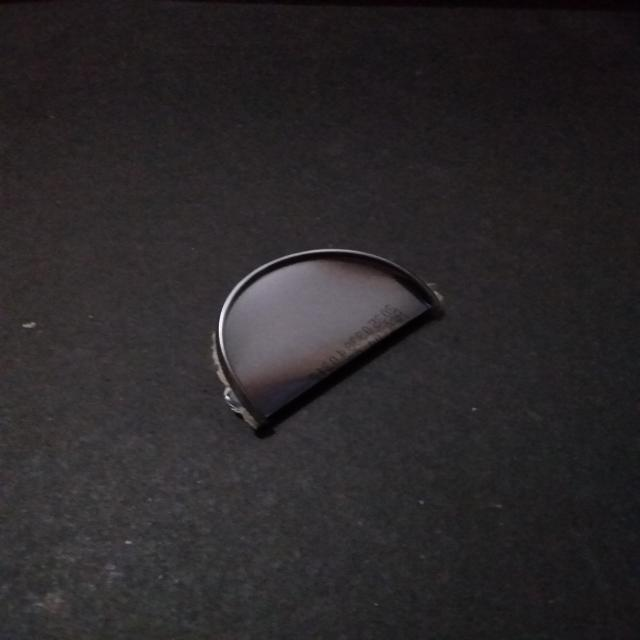metal: (205, 244, 450, 438)
